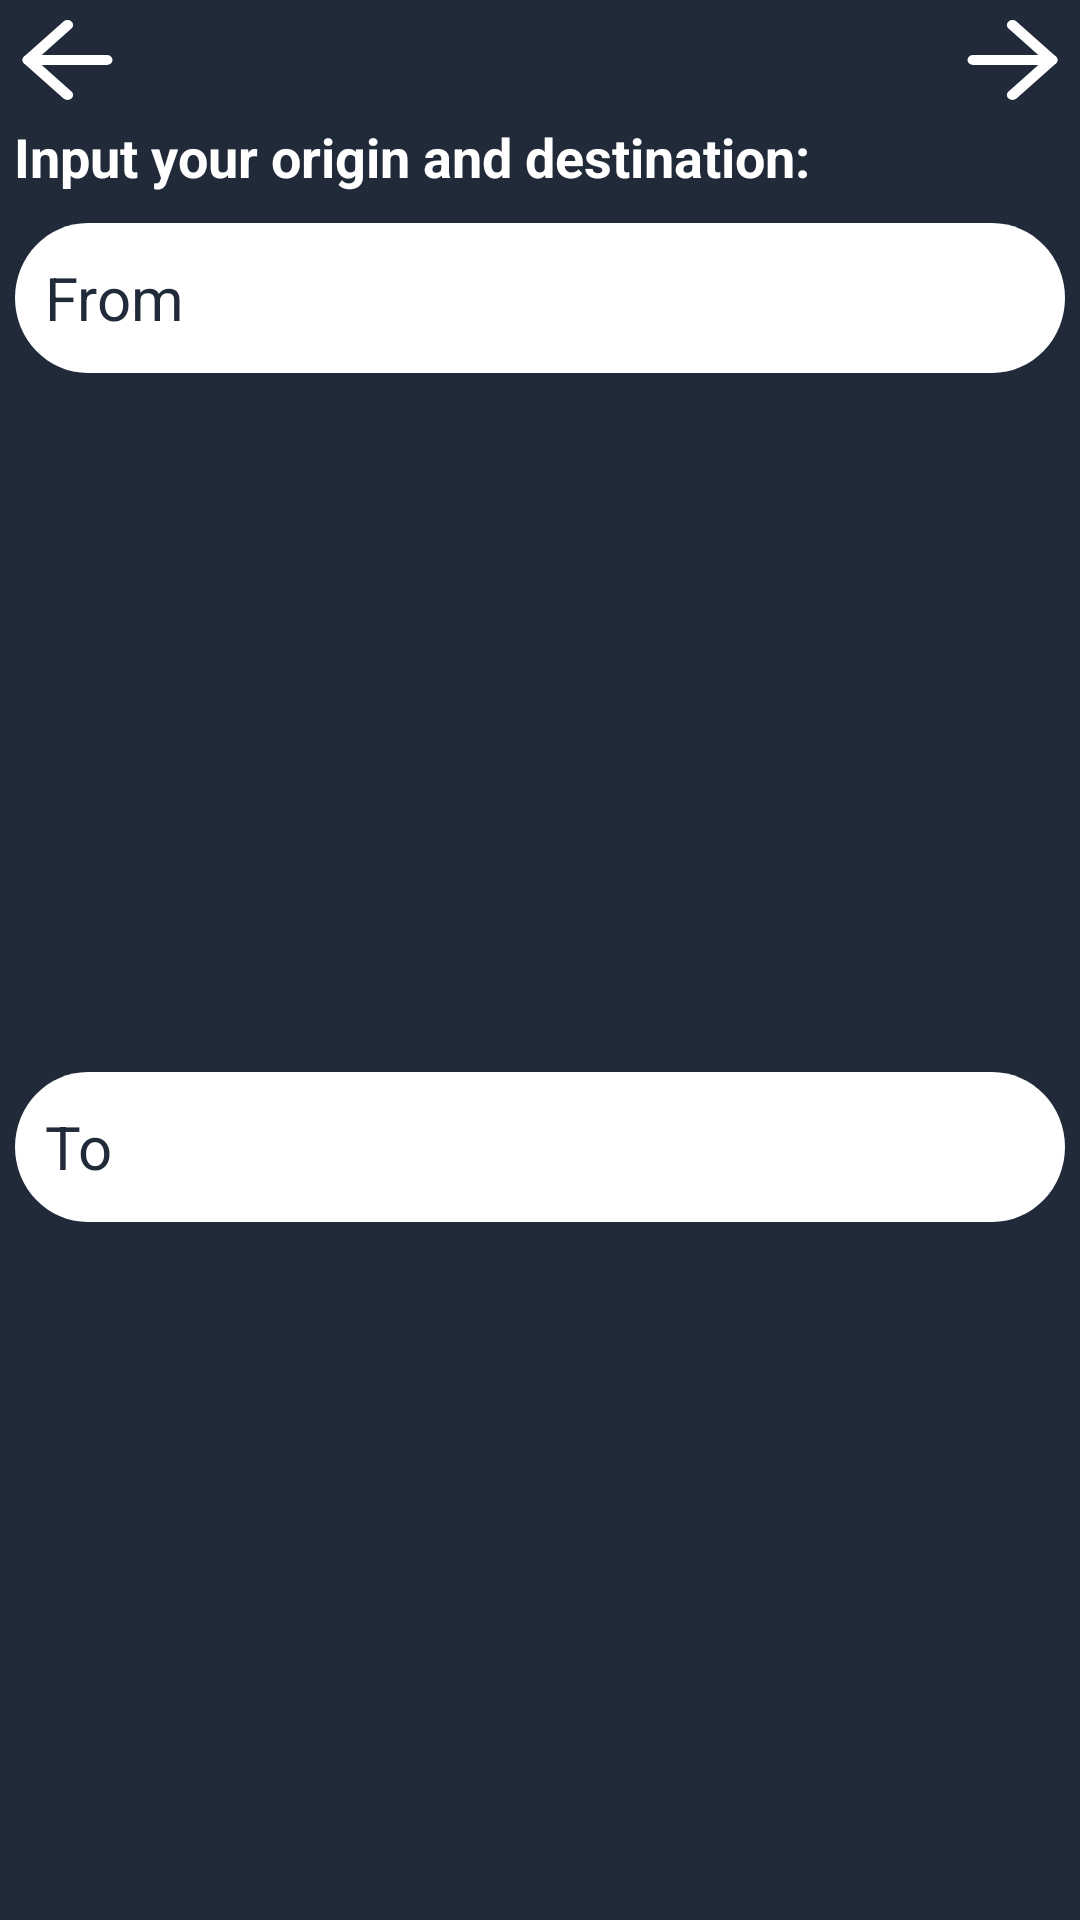

Icons on this 1080x1920 Android screen, each with the point to tap as point (x, y):
arrow left: point (67, 60)
arrow right: point (1012, 60)
